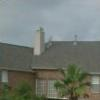Chimney: (30, 20, 50, 65)
